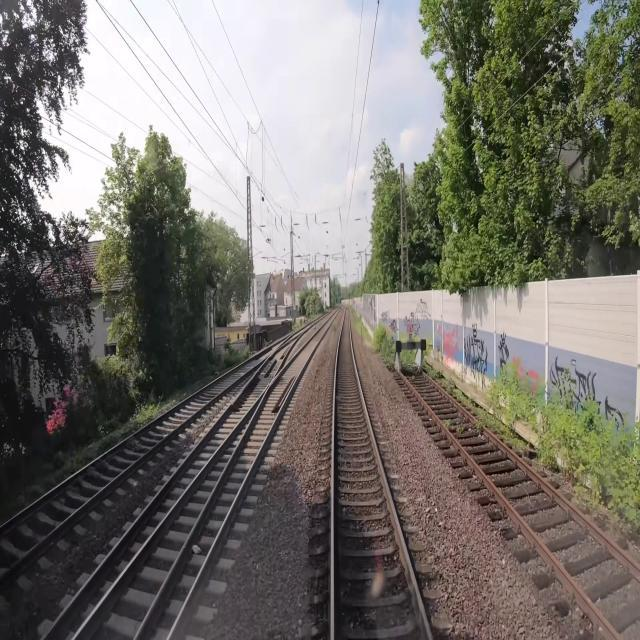Plant: (422, 350, 525, 451), (562, 456, 639, 548), (535, 437, 558, 472), (376, 347, 416, 367)
